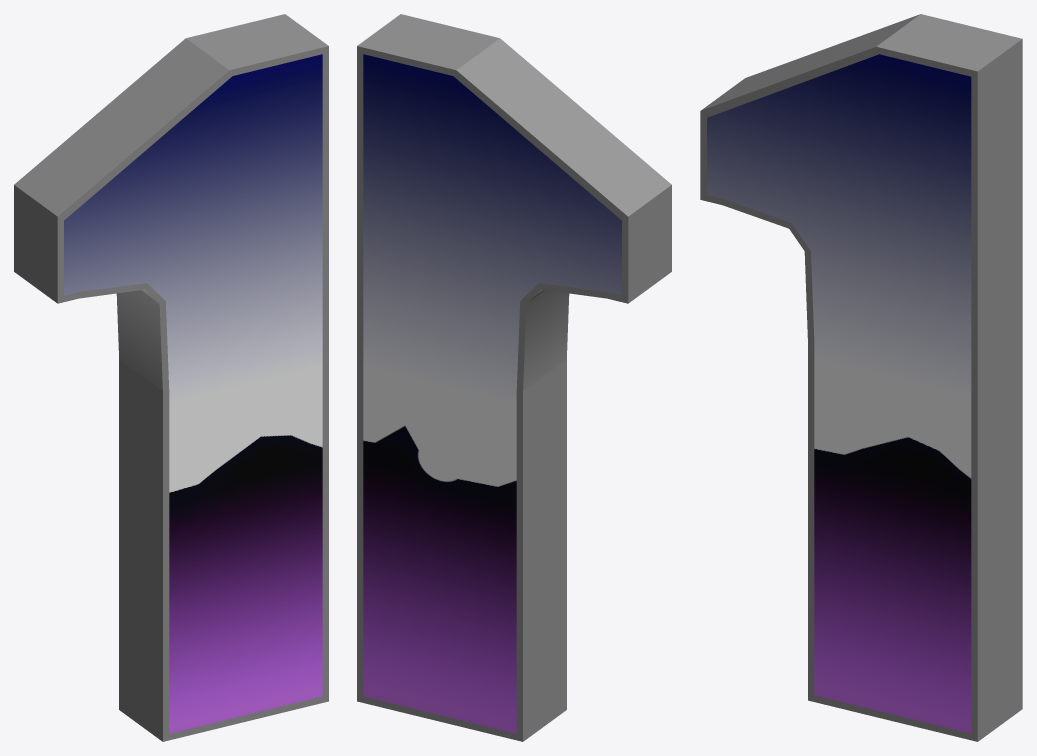
The picture shows the model from 3 angles, left to right: view 1: azimuth 30°, elevation 25°; view 2: azimuth 150°, elevation 25°; view 3: azimuth 330°, elevation 25°; orthographic projection. The views are drawn at different scales.
Visible parts, largest first — view 1: 1, 1_outline; view 2: 1, 1_outline; view 3: 1, 1_outline.
Part boxes in pixels (x1=…): 1: x1=64, y1=54, x2=322, y2=733; 1_outline: x1=14, y1=14, x2=328, y2=741; 1: x1=363, y1=54, x2=621, y2=733; 1_outline: x1=357, y1=14, x2=671, y2=741; 1: x1=707, y1=54, x2=971, y2=733; 1_outline: x1=700, y1=14, x2=1022, y2=741.
Bounding box in the file's own units: 42.95 × 99.2 × 12.
Materials: 2 (1 with a texture image).
